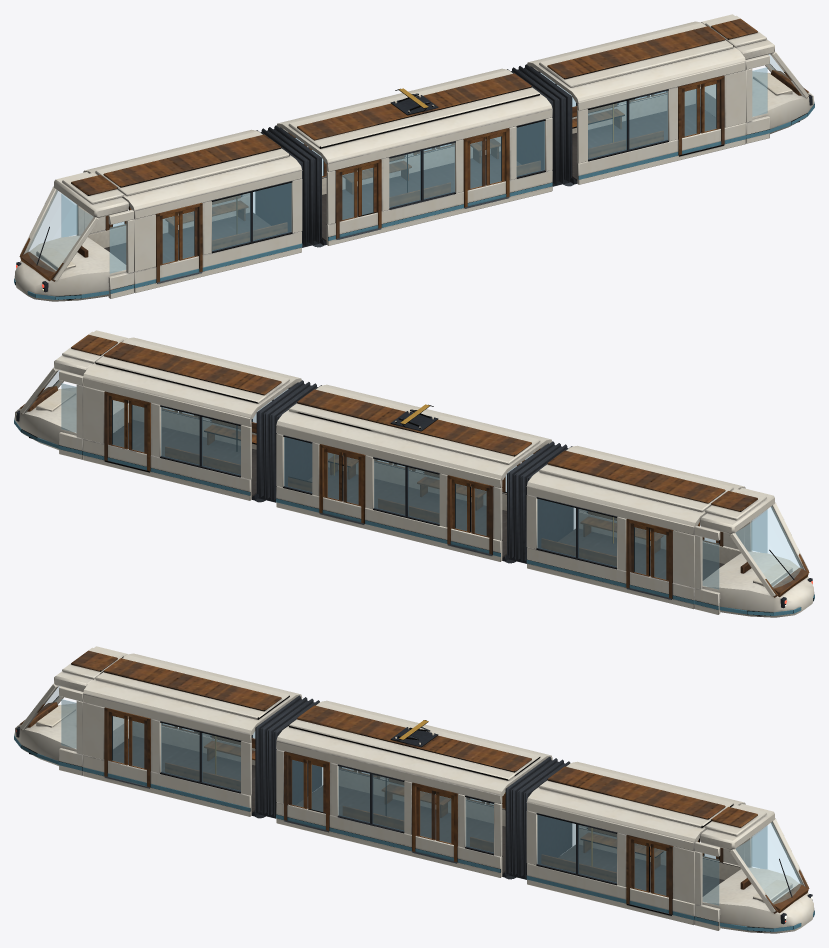
Rendered from vehicle_tram_3car.glb.
3 renders of one model, top to bottom at view 1: azimuth 30°, elevation 25°; view 2: azimuth 150°, elevation 25°; view 3: azimuth 330°, elevation 25°, orthographic.
Parts seen in each view (by area): view 1: Tram3CarBody, Tram3CarGlass; view 2: Tram3CarBody, Tram3CarGlass; view 3: Tram3CarBody, Tram3CarGlass.
Boxes of the visible parts, <box> form: Tram3CarBody: <box>14,14,814,301</box>; Tram3CarGlass: <box>26,54,788,273</box>; Tram3CarBody: <box>14,330,814,617</box>; Tram3CarGlass: <box>40,370,802,589</box>; Tram3CarBody: <box>14,646,814,933</box>; Tram3CarGlass: <box>40,686,802,905</box>.
Size of the model in its own units: 22.23 by 3.12 by 2.58.
Materials: 7 (4 with a texture image).
